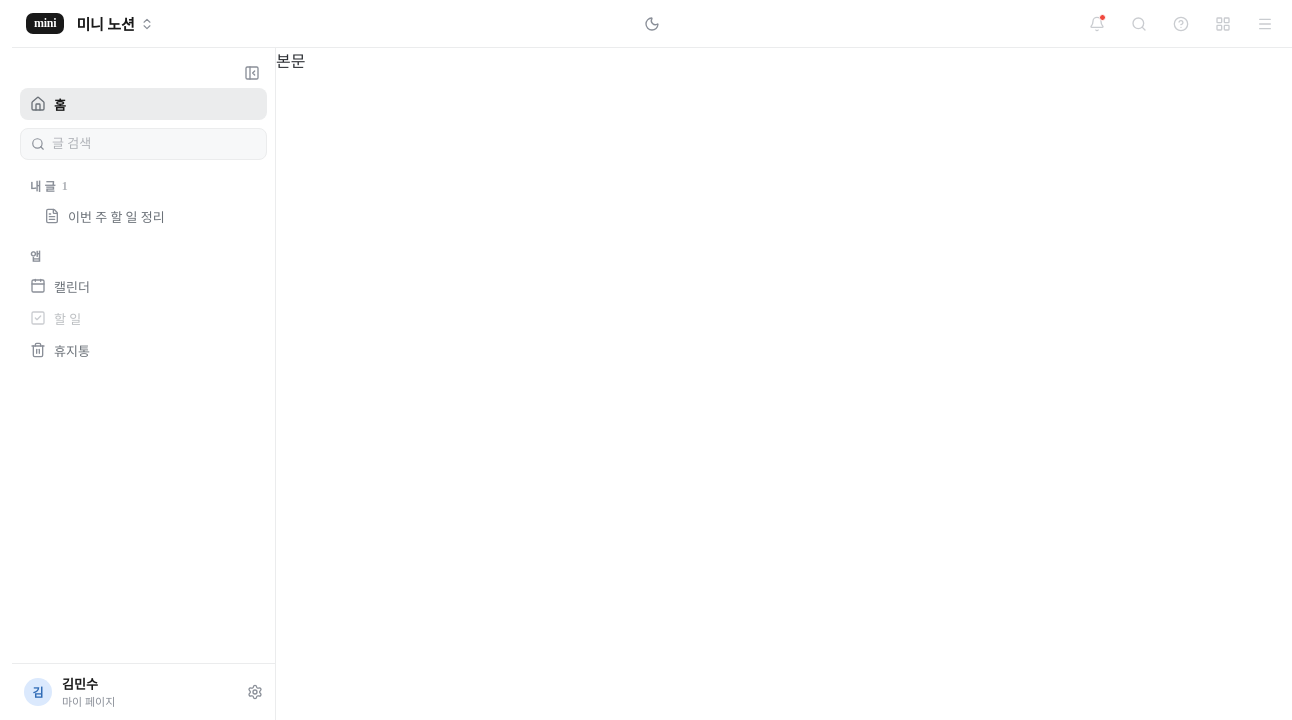
Scenario: 접힌 상태에서도 토글 버튼 1개가 보이며 '사이드바 펼치기'로 바뀐다 (US1-3/FR-004)
This screenshot has width=1292, height=720.
Click the button named "사이드바 접기" at (252, 73), box [237,58,267,88]
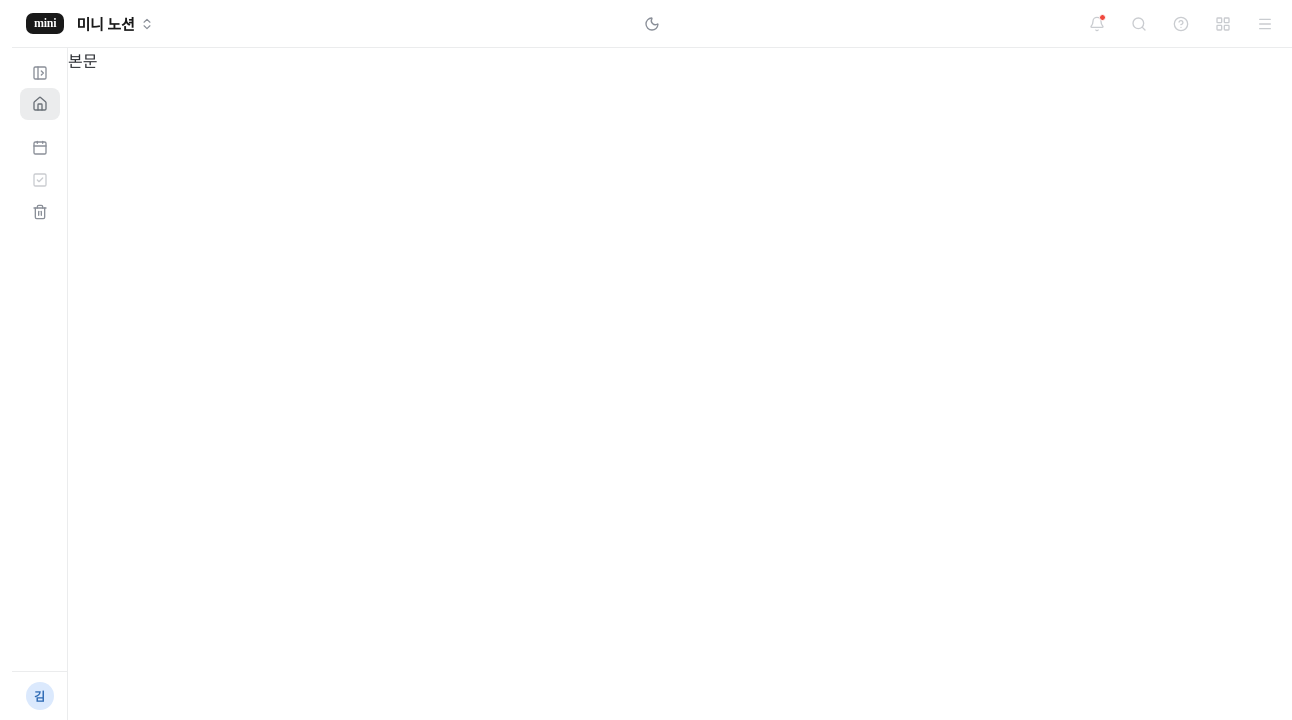
Expected: the number of buttons named "사이드바 펼치기" is 1, [24,58,54,88]
Expected: the button named "사이드바 펼치기" is collapsed, [24,58,54,88]
